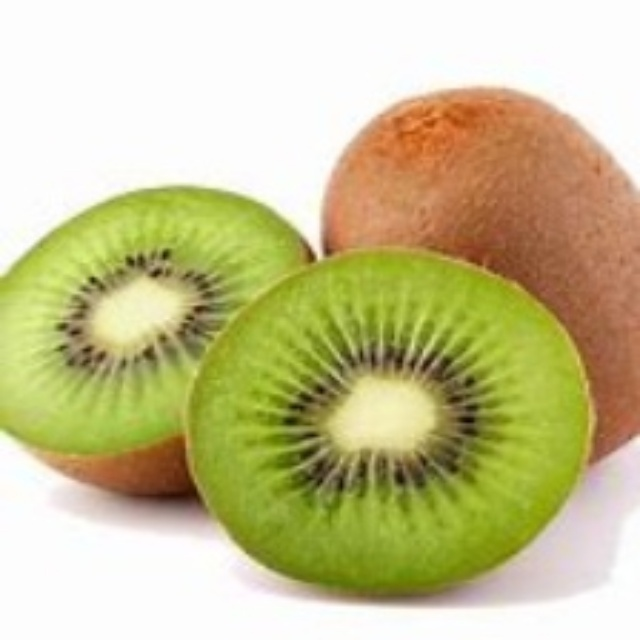kiwi: (191, 253, 596, 598), (314, 82, 639, 462), (1, 176, 352, 515)
